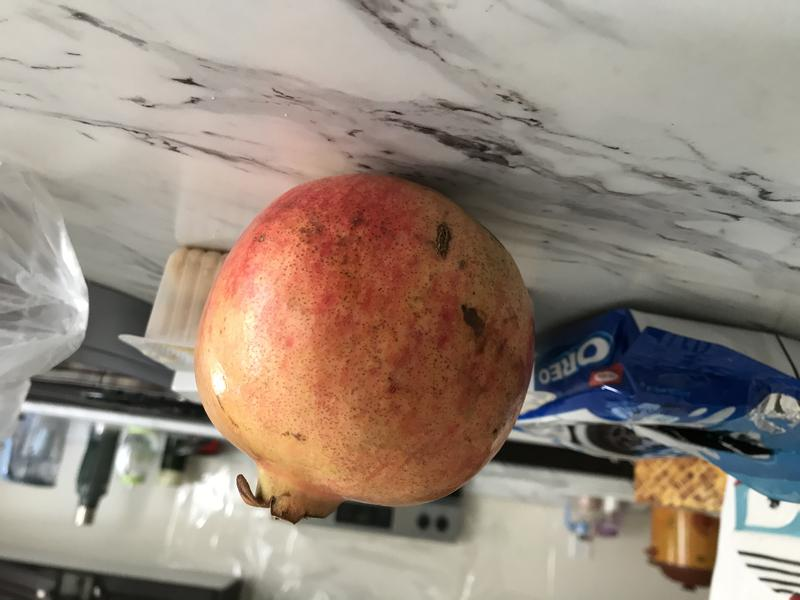pomegranate: (185, 163, 547, 541)
